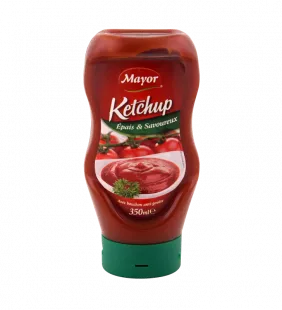MAYOR: (76, 20, 205, 284)
